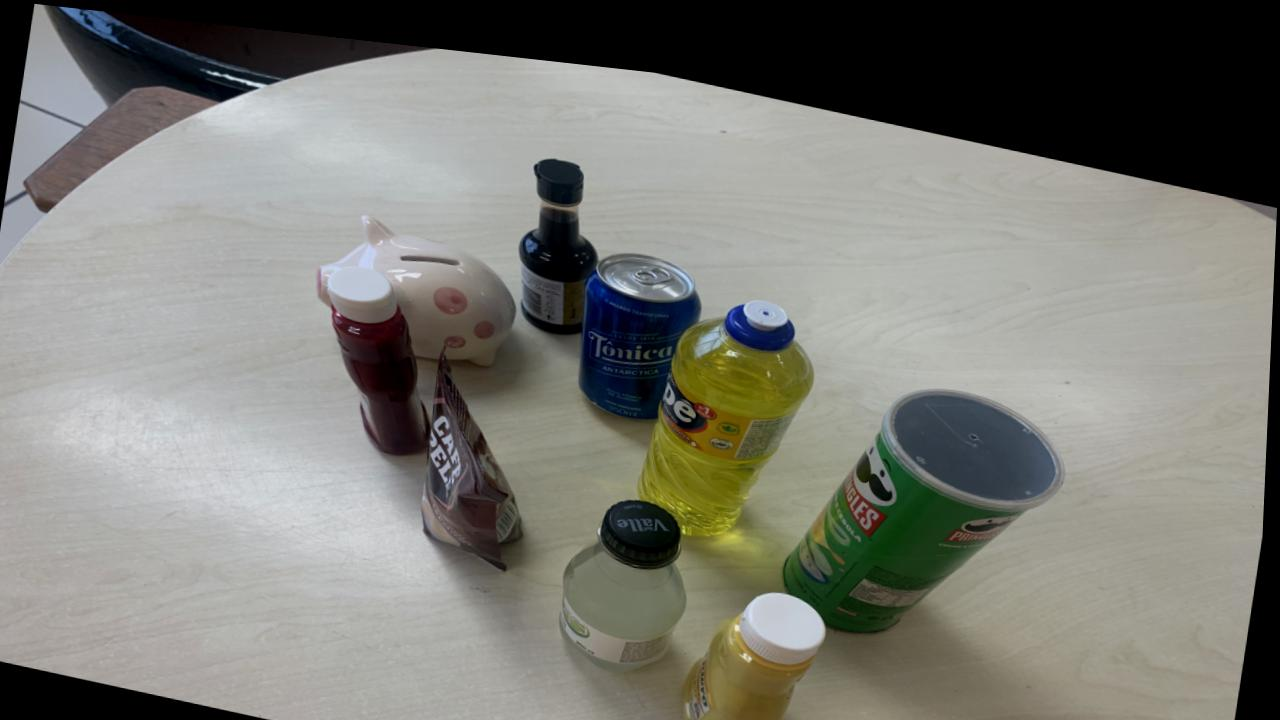Coffee-Pantry_Items: (425, 341, 527, 558)
Detergent-Cleanup_Items: (642, 282, 817, 519)
English_Sauce-Pantry_Items: (520, 145, 601, 321)
Mustard-Pantry_Items: (688, 573, 831, 720)
Pig_Safe-Miscellaneous: (317, 206, 519, 354)
Pringles-Snacks: (788, 366, 1068, 612)
Soda-Drinks: (564, 484, 691, 657)
Tonic-Drinks: (581, 237, 704, 404)
